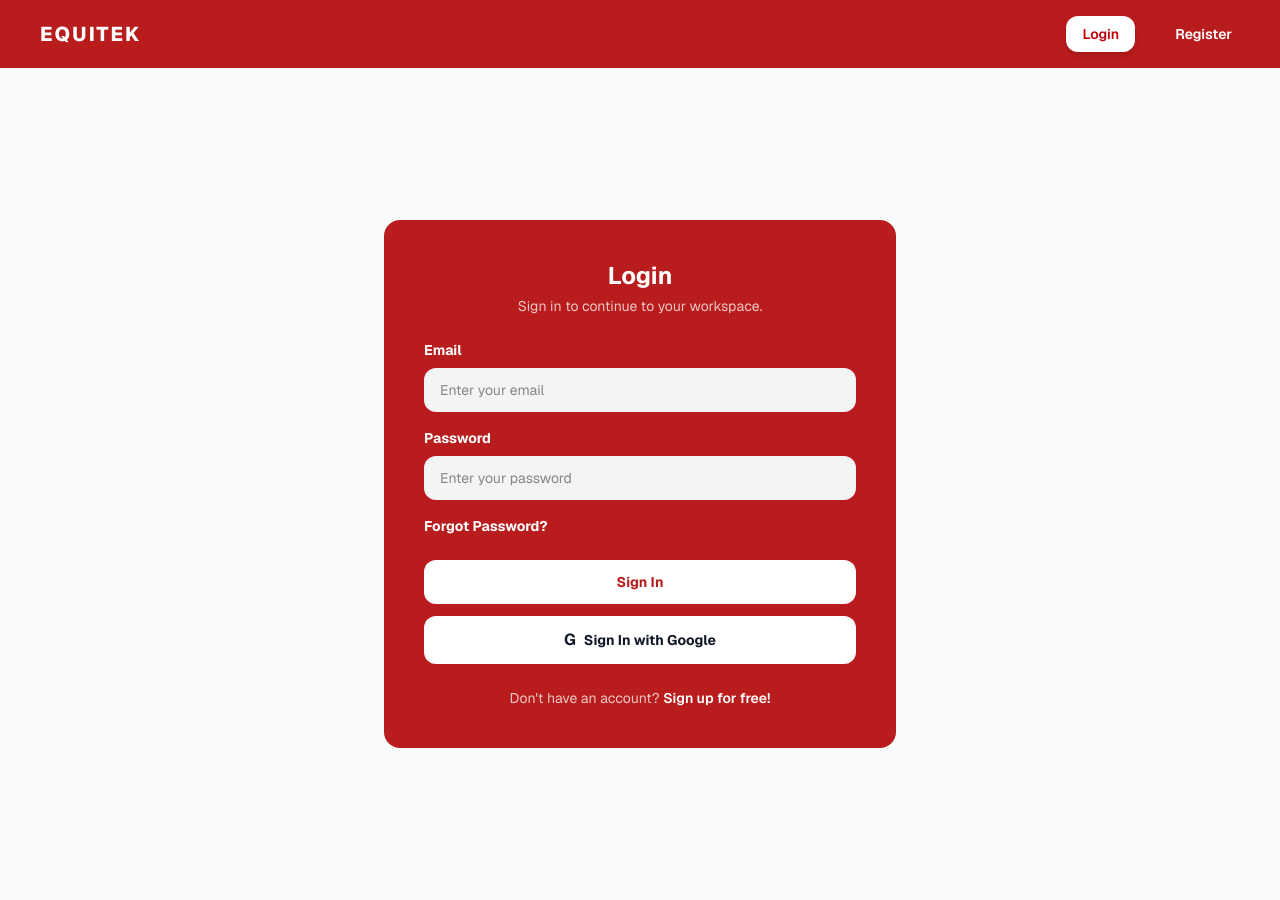
Test: LoginPage › negative › shows English error when Google loginWithGoogle returns Indonesian missing-token error
Click the button "G Sign In with Google" at (640, 640), box [424,616,856,664]
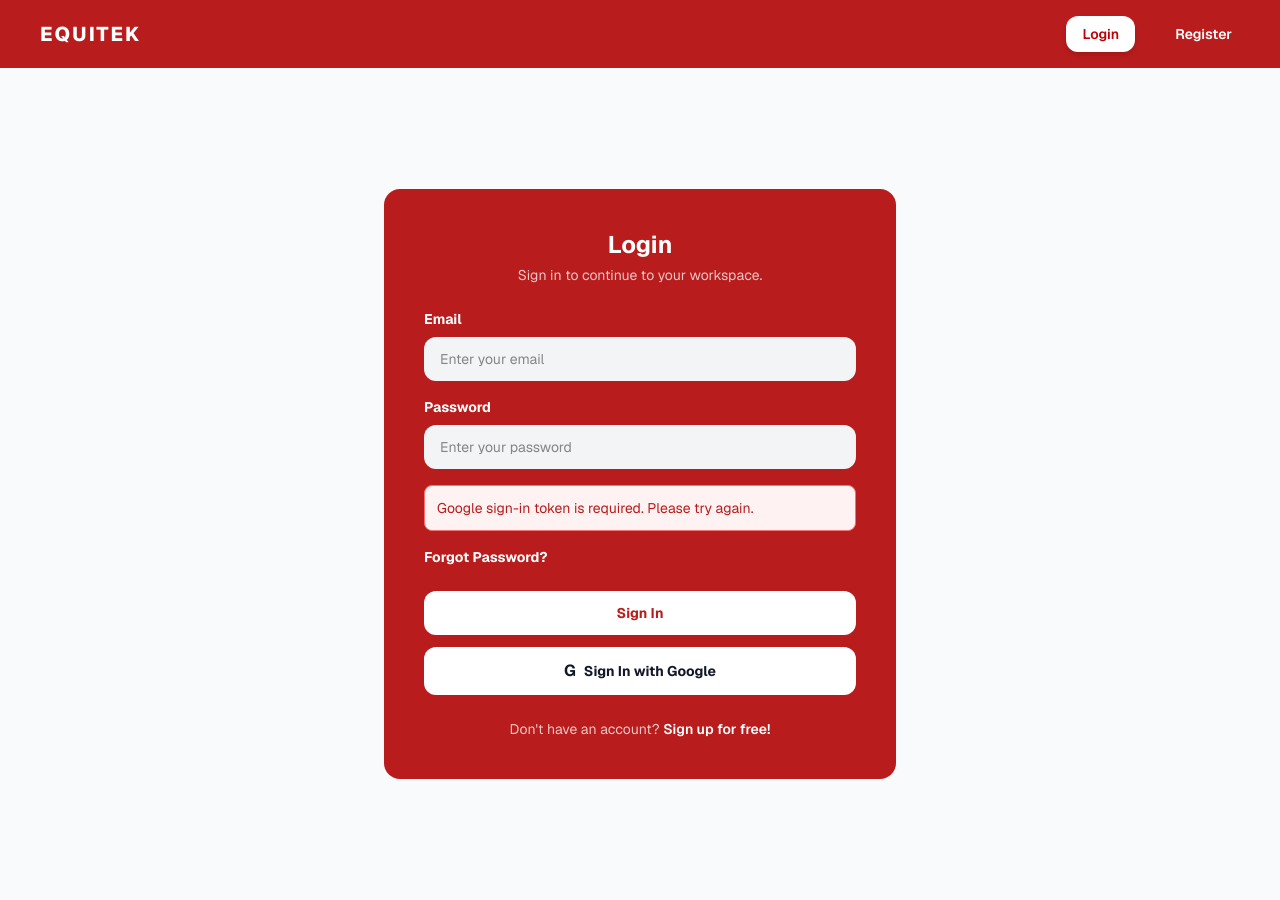
Now the message reads "Google sign-in token is required. Please try again.", box [437,499,754,517]
